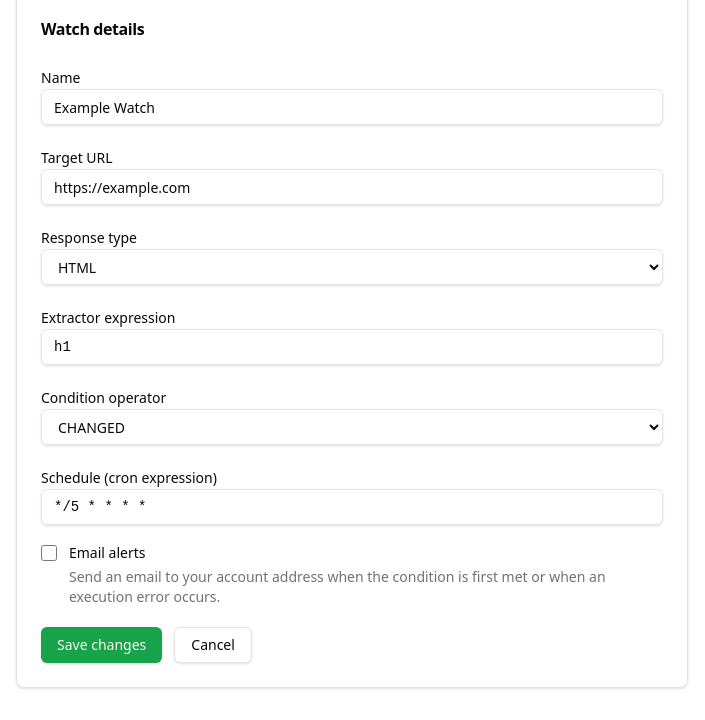
Edit Watch page › shows server error when update fails
(page scrolled)
Check: the field showing "Example Watch" is shown, box [41,89,663,125]
Click the button "Save changes": (102, 645) [41,627,162,663]
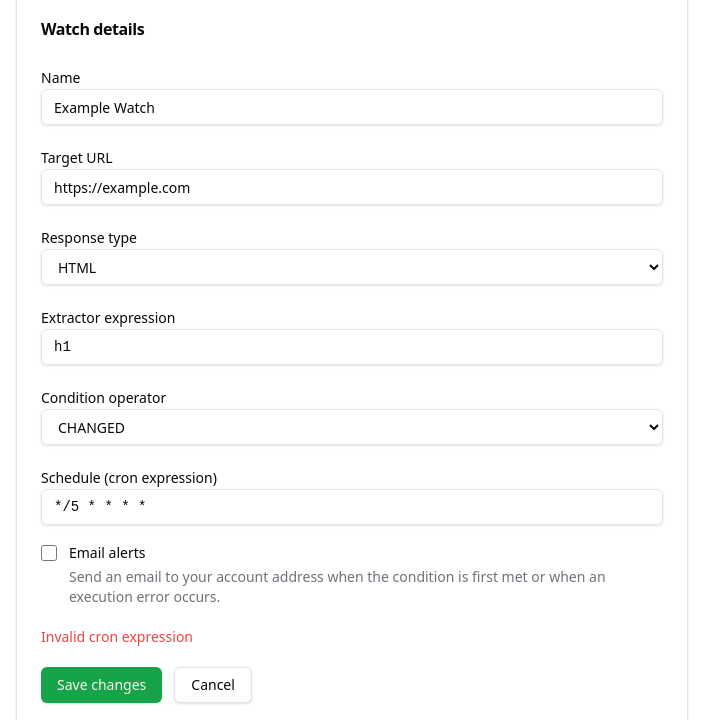
Check: the text "Invalid cron expression" is shown, box [41,627,193,646]
